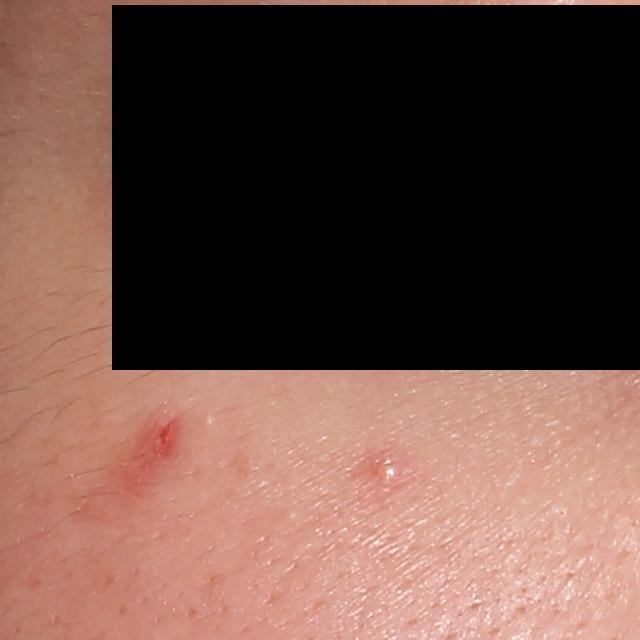papule: (146, 416, 181, 461)
pustule: (368, 449, 399, 481)
